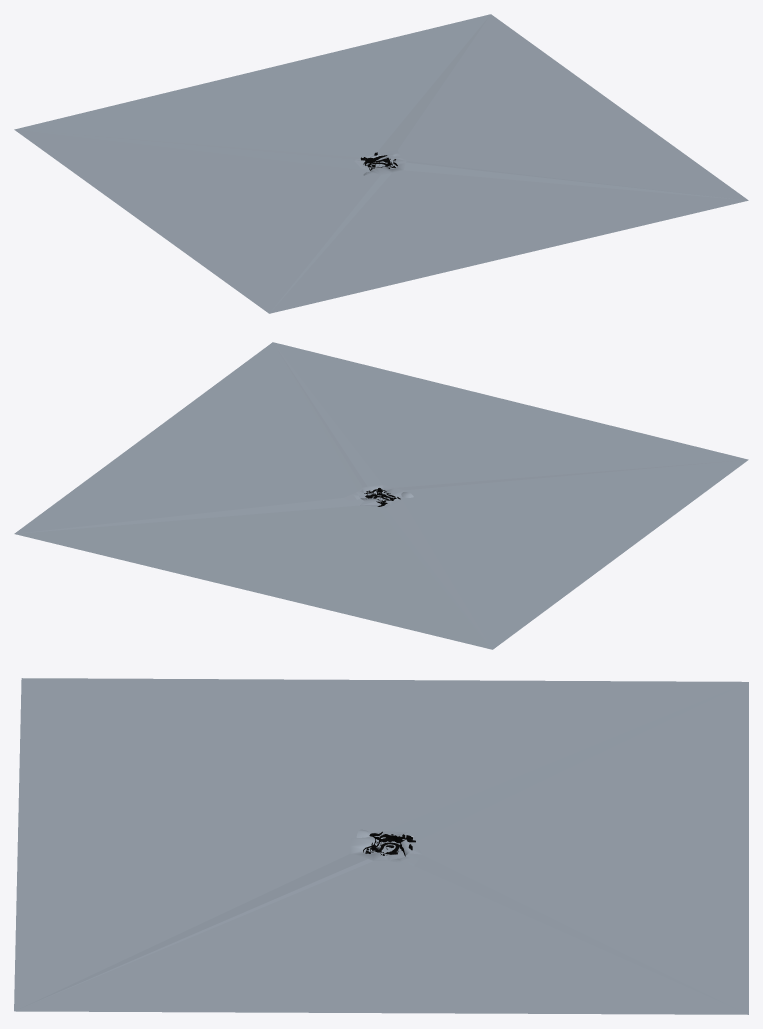
Rendered from gltf__Models__map__Forest__peterPan__peterPan_mergedScene.glb.
3 renders of one model, top to bottom at view 1: azimuth 30°, elevation 25°; view 2: azimuth 150°, elevation 25°; view 3: azimuth 270°, elevation 25°, orthographic. The views are drawn at different scales.
Visible parts, largest first — view 1: peterPan_mergedScene; view 2: peterPan_mergedScene; view 3: peterPan_mergedScene.
Boxes of the visible parts, left/top/right/bottom form: peterPan_mergedScene: left=14, top=14, right=748, bottom=313; peterPan_mergedScene: left=14, top=342, right=748, bottom=649; peterPan_mergedScene: left=14, top=678, right=748, bottom=1014.
Bounding box in the file's own units: 439 × 6.03 × 411.
Materials: 3 (3 with a texture image).
